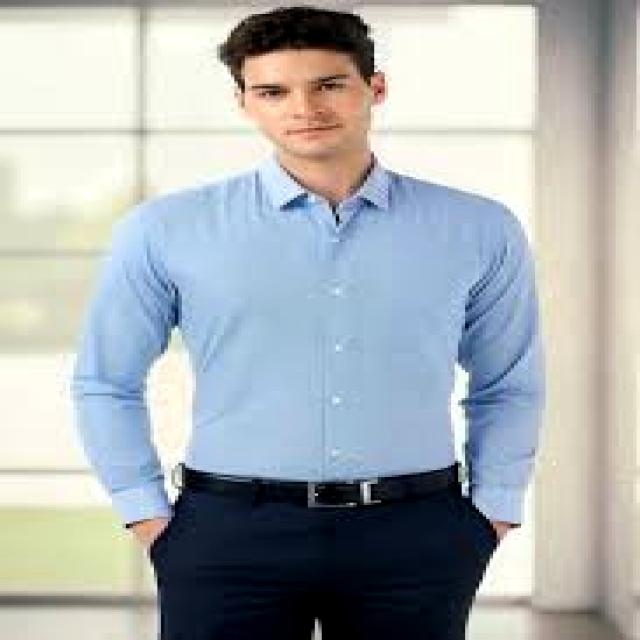face: (222, 5, 392, 155)
lower-wear: (165, 459, 492, 640)
top-wear: (75, 166, 542, 529)
